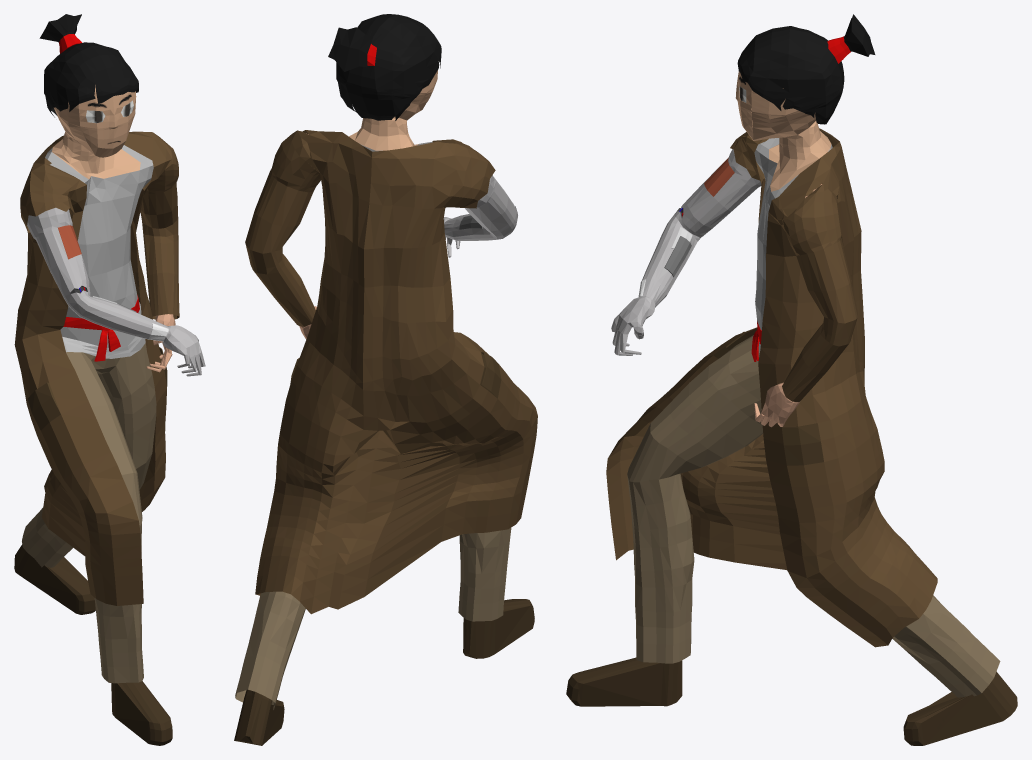
Rendered from Special_Attack_000003.obj.
3 renders of one model, left to right at view 1: azimuth 30°, elevation 25°; view 2: azimuth 150°, elevation 25°; view 3: azimuth 270°, elevation 25°, orthographic. The views are drawn at different scales.
Parts seen in each view (by area): view 1: Hair_Cube.004; view 2: Hair_Cube.004; view 3: Hair_Cube.004.
Part boxes in pixels (bbox=[...]): Hair_Cube.004: bbox=[14, 14, 205, 745]; Hair_Cube.004: bbox=[234, 14, 537, 745]; Hair_Cube.004: bbox=[566, 14, 1017, 745].
Size of the model in its own units: 1.13 by 3.68 by 2.16.
